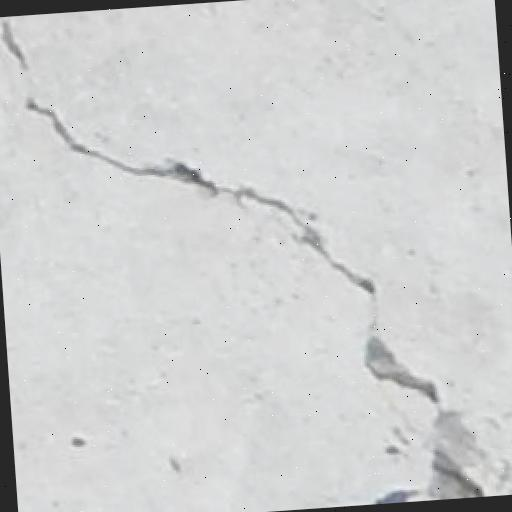spalling: (0, 22, 502, 494)
